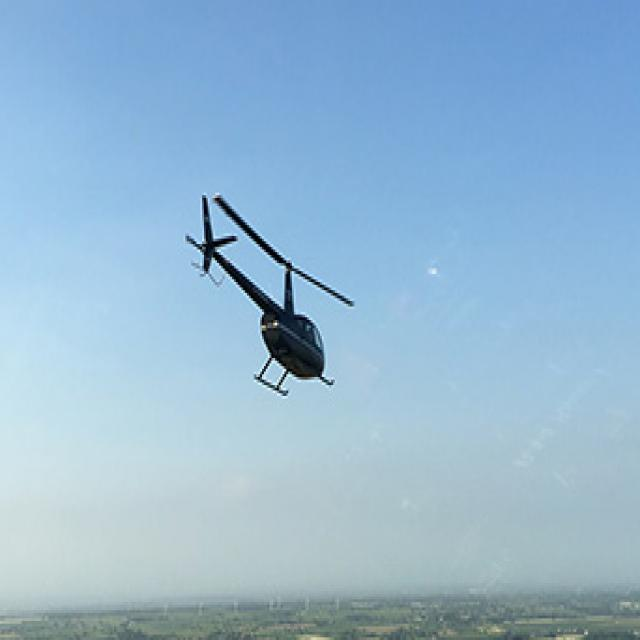helicopter: (179, 191, 370, 394)
